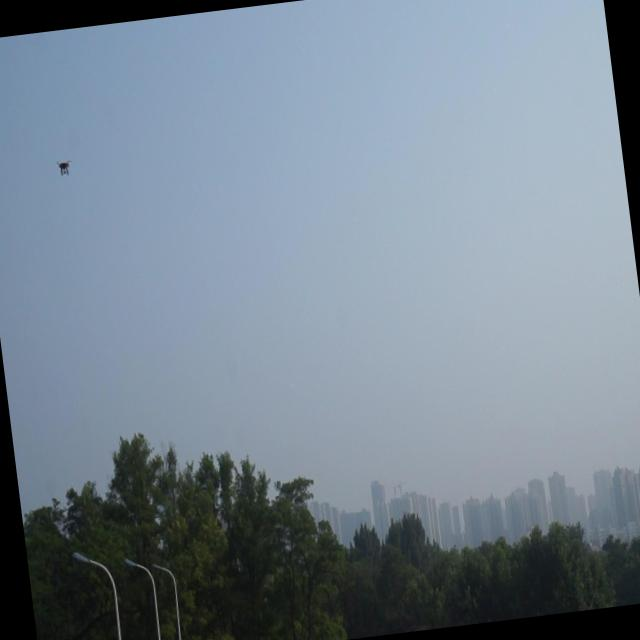drone: (53, 154, 75, 182)
